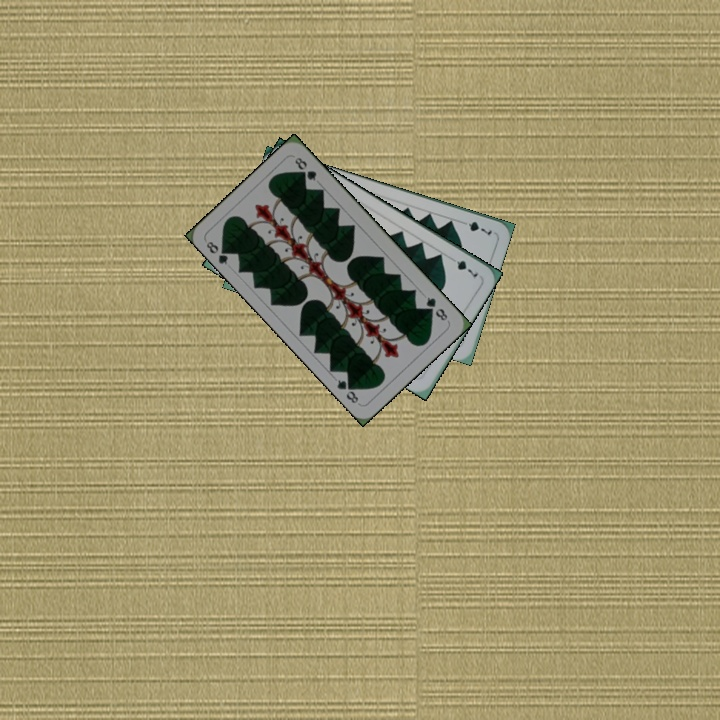G7: (445, 253, 481, 282), (456, 216, 495, 238)
G8: (202, 237, 233, 268), (422, 293, 451, 324)
